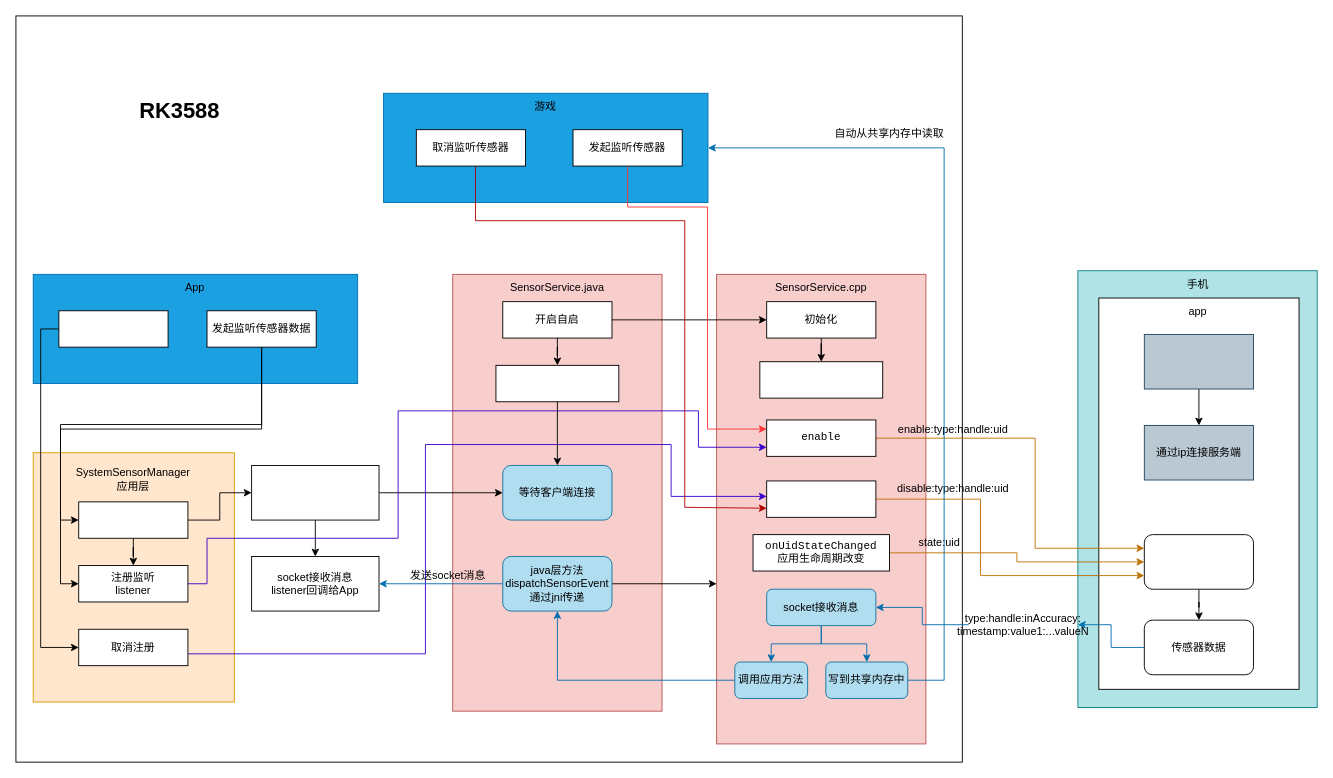
This 1333x778 diagram has some shape labels left out. The shapes that lost their labels are listed below. From the top down, each one's box as (x1, y1, x2, y2) in pixels, then its label:
(58, 310, 168, 347): 取消监听传感器数据(不一定执行)
(759, 361, 883, 398): 创建Socket服务端
(1143, 334, 1254, 389): 创建Netty客户端
(495, 364, 619, 402): 创建LocalSocket服务端
(251, 465, 379, 520): LocalSocket客户端 连接服务端
(766, 480, 876, 517): disable
(78, 501, 188, 538): 是否初始化
(1143, 534, 1254, 589): Netty(Client)
